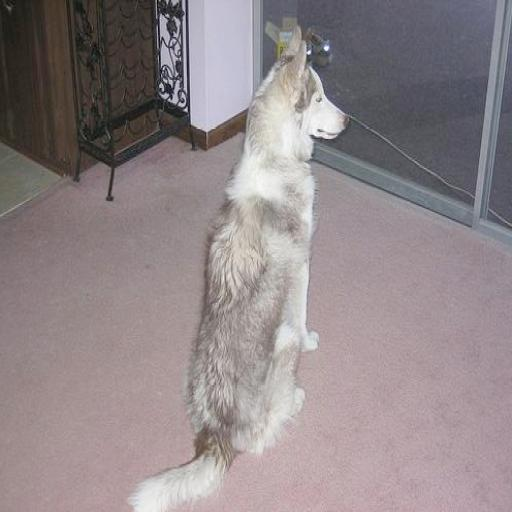dog_face: (266, 50, 349, 148)
